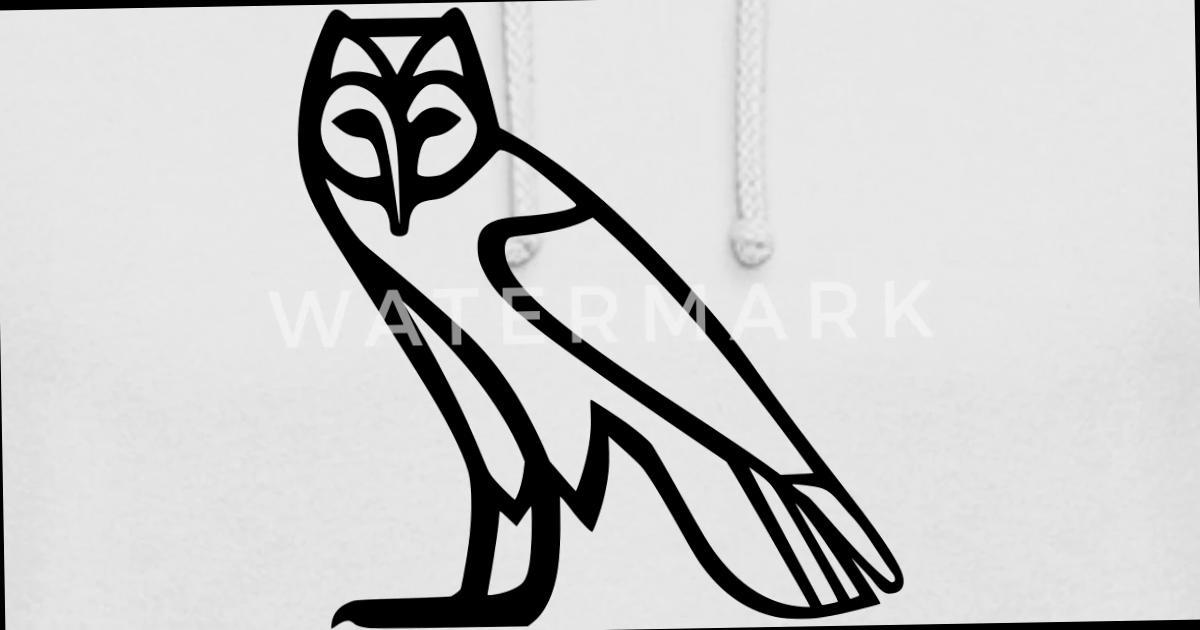Owl: (280, 8, 905, 623)
